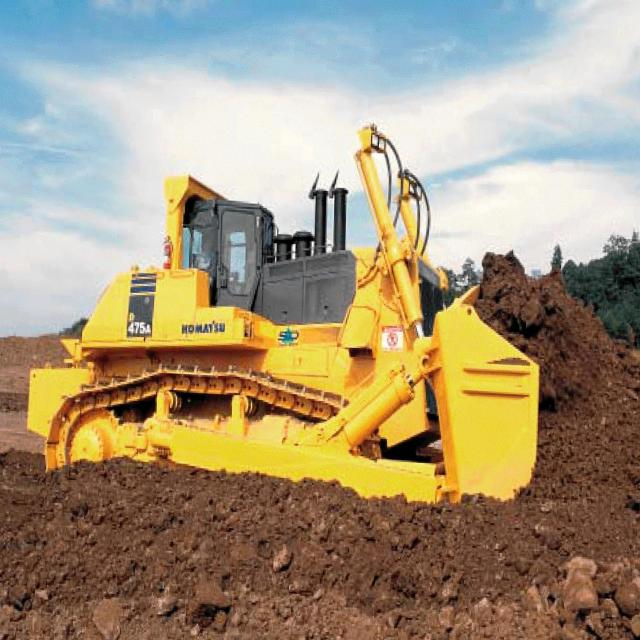Bulldozer: (25, 109, 565, 542)
